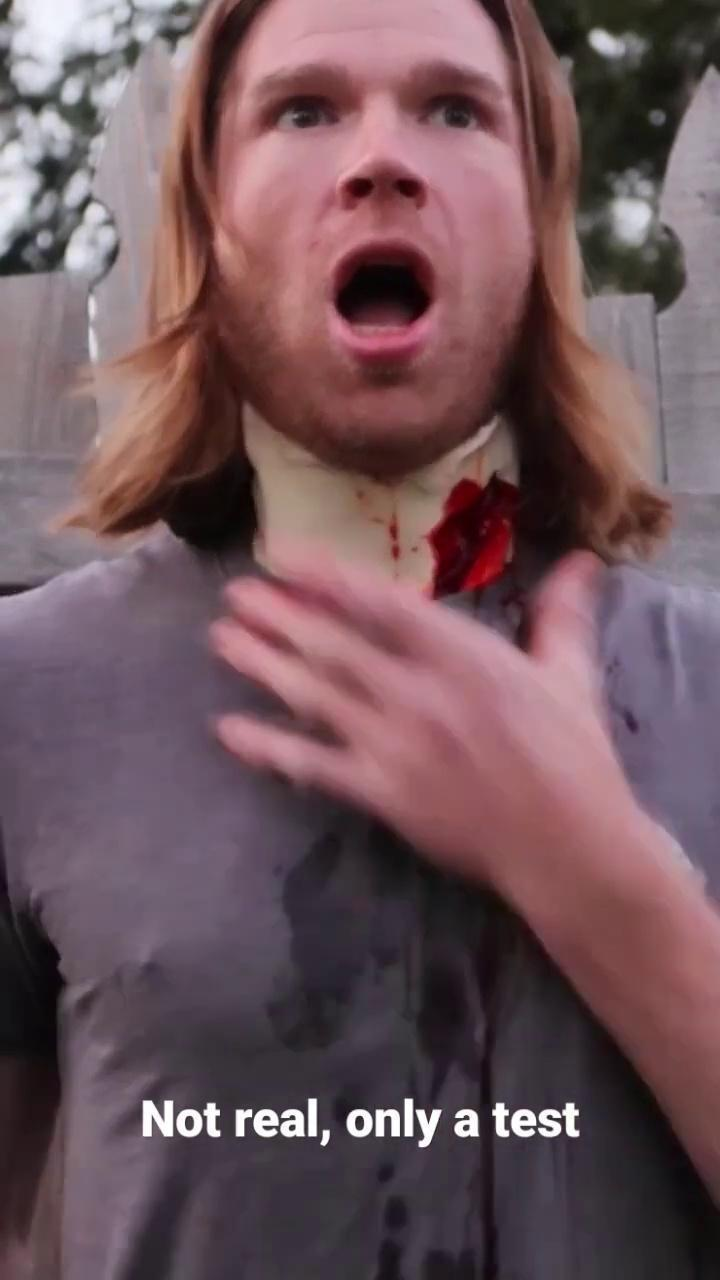Fire: (443, 537, 562, 650), (428, 474, 520, 598), (378, 485, 438, 590)
